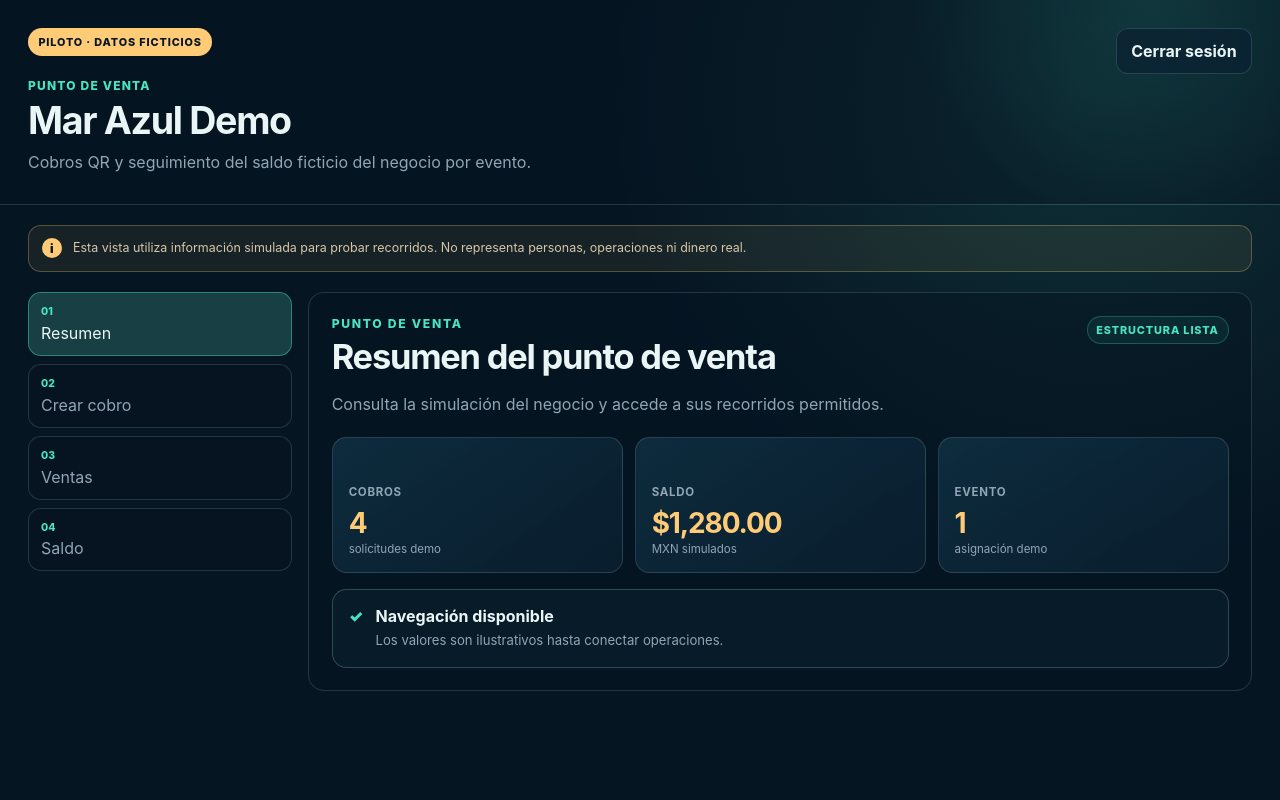
Test: RoleWorkspace › presenta navegación específica para seller
Expected: the navigation bar named "Navegación de Punto de venta" is shown, [28, 292, 292, 571]
Expected: the text "información simulada" is shown, [73, 240, 746, 255]
Click the button "02 Crear cobro" at (86, 405), box [28, 364, 292, 428]
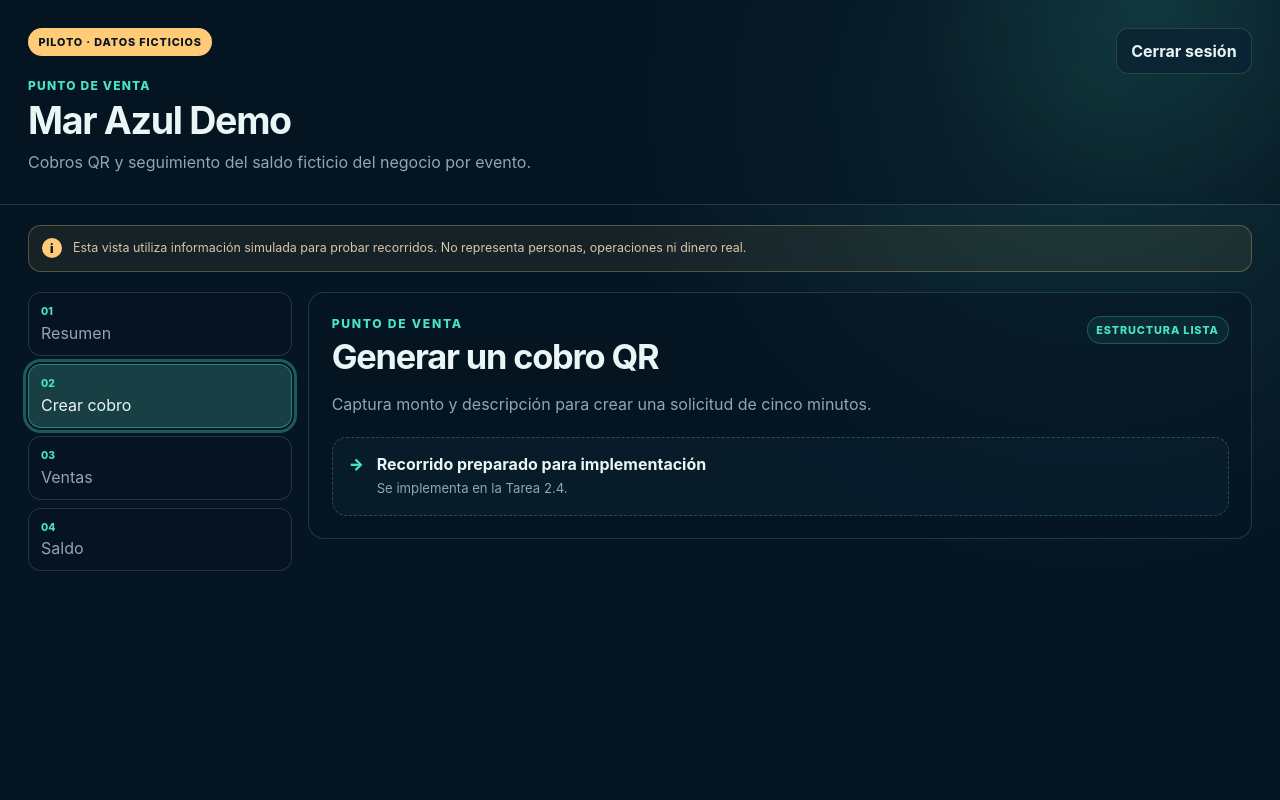
Expected: the text "Recorrido preparado para implementación" is shown, [377, 454, 706, 474]
